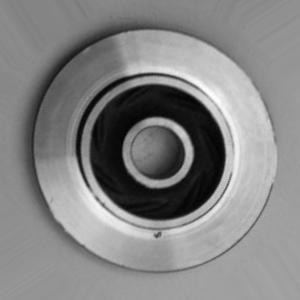defect: (137, 218, 178, 256)
